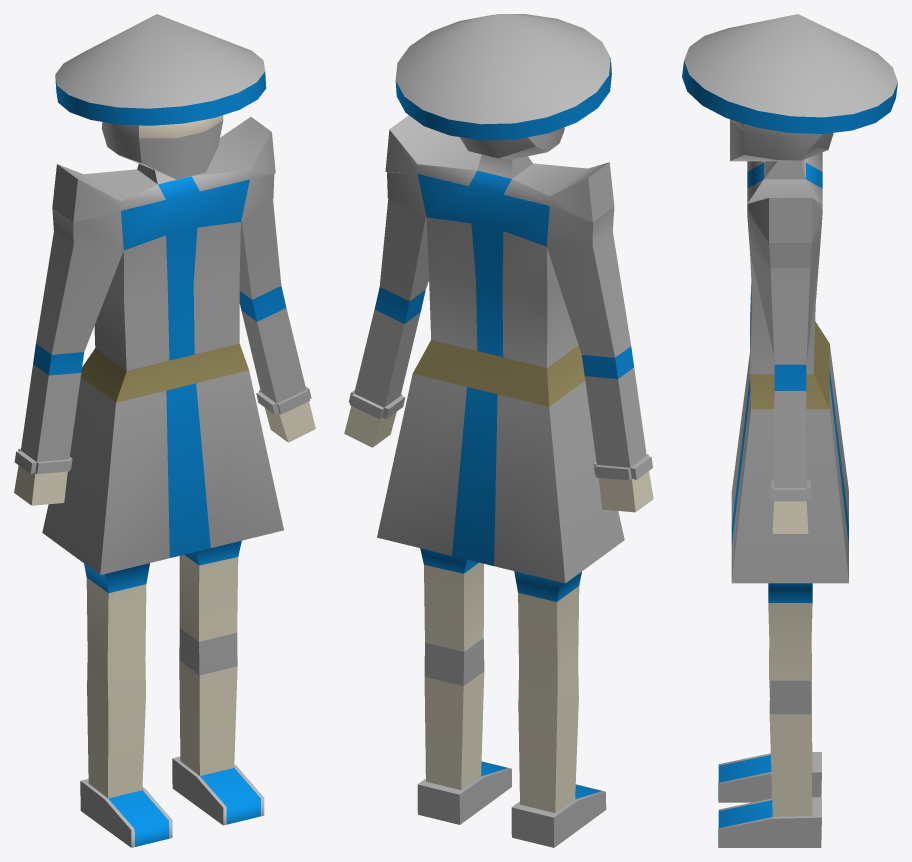
Rendered from Friend.fbx.
The picture shows the model from 3 angles, left to right: view 1: azimuth 30°, elevation 25°; view 2: azimuth 150°, elevation 25°; view 3: azimuth 270°, elevation 25°; orthographic projection. The views are drawn at different scales.
Parts seen in each view (by area): view 1: pCube1, pCylinder1; view 2: pCube1, pCylinder1; view 3: pCube1, pCylinder1.
Boxes of the visible parts, x1,y1,x2,y2 form: pCube1: (14, 115, 315, 847); pCylinder1: (55, 14, 266, 125); pCube1: (344, 115, 653, 847); pCylinder1: (395, 14, 611, 140); pCube1: (718, 119, 848, 847); pCylinder1: (682, 14, 897, 133).
Bounding box in the file's own units: 1.58 × 4.18 × 1.02.
